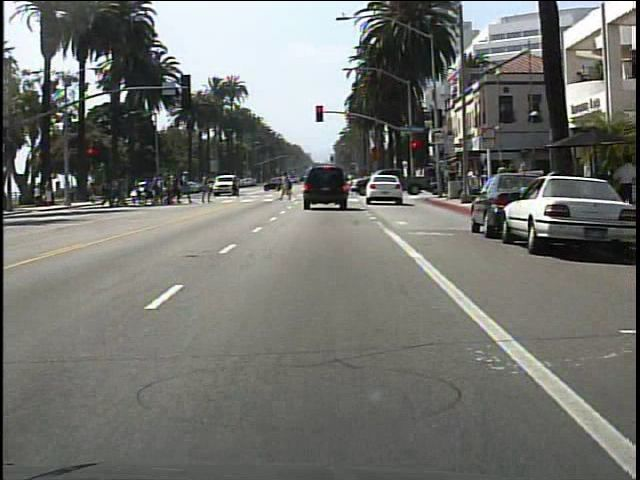person: (609, 153, 640, 233), (227, 169, 246, 202)
